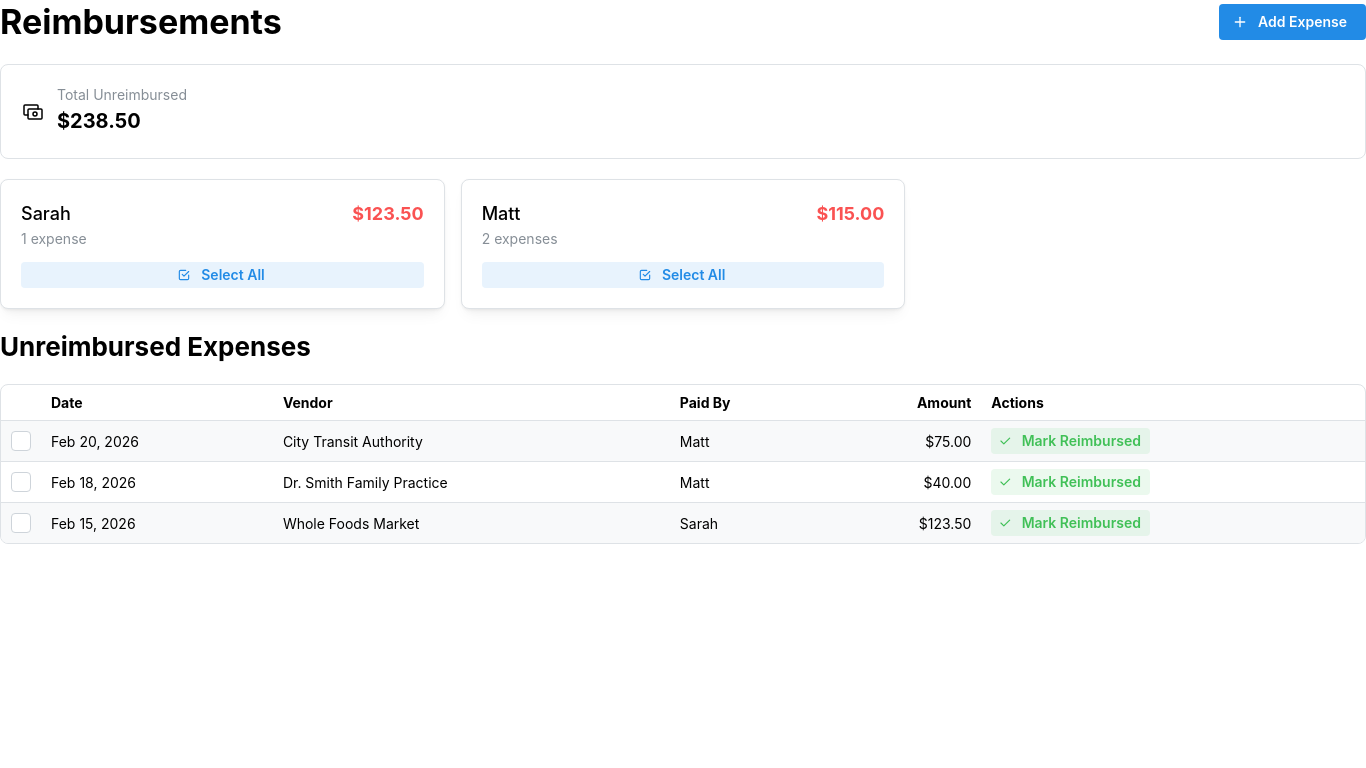
it: Reimbursements Page › Bulk Reimbursement › Confirmation Modal › modal shows total amount of selected expenses
Expected: the table is shown, left=1, top=385, right=1365, bottom=543
Click the checkbox named "select City Transit Authority" at (21, 441), box left=11, top=431, right=31, bottom=451
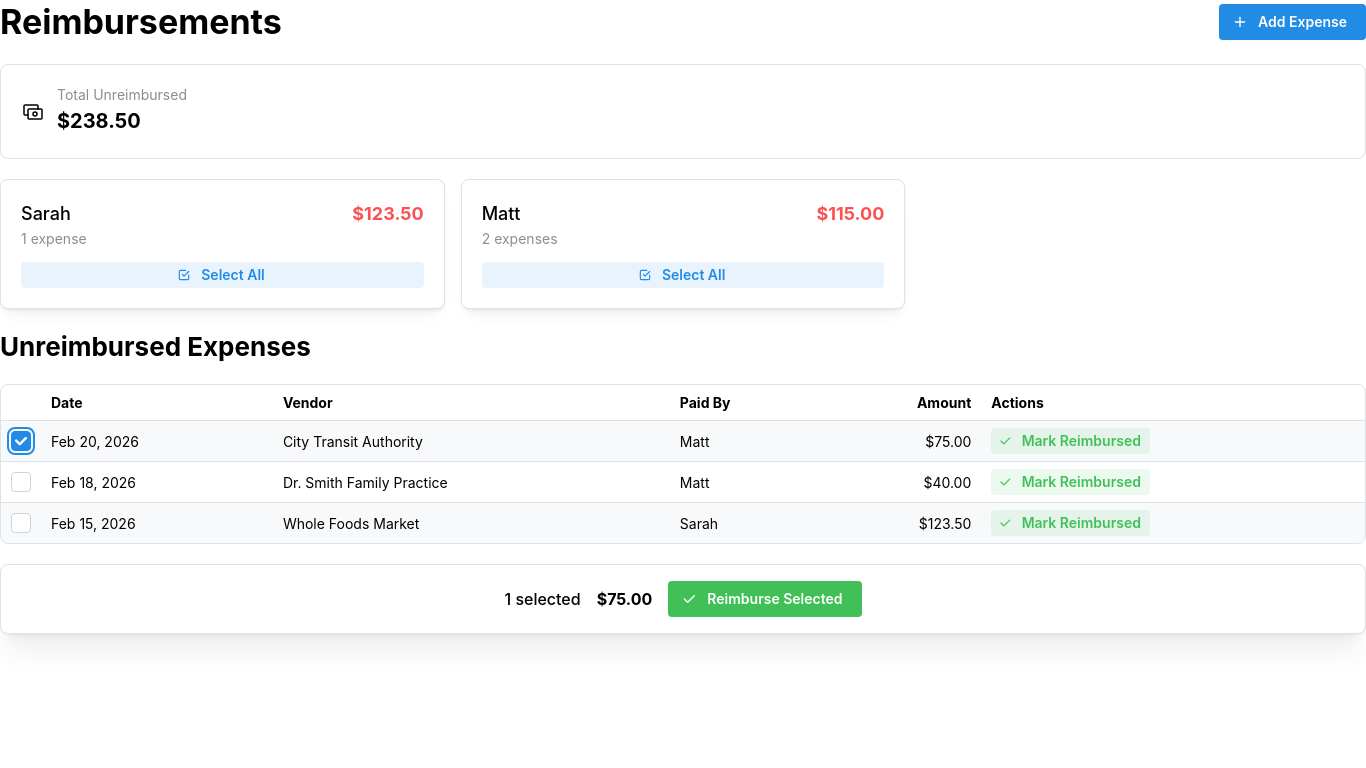
Click the checkbox named "select Dr. Smith Family Practice" at (21, 482), box left=11, top=472, right=31, bottom=492
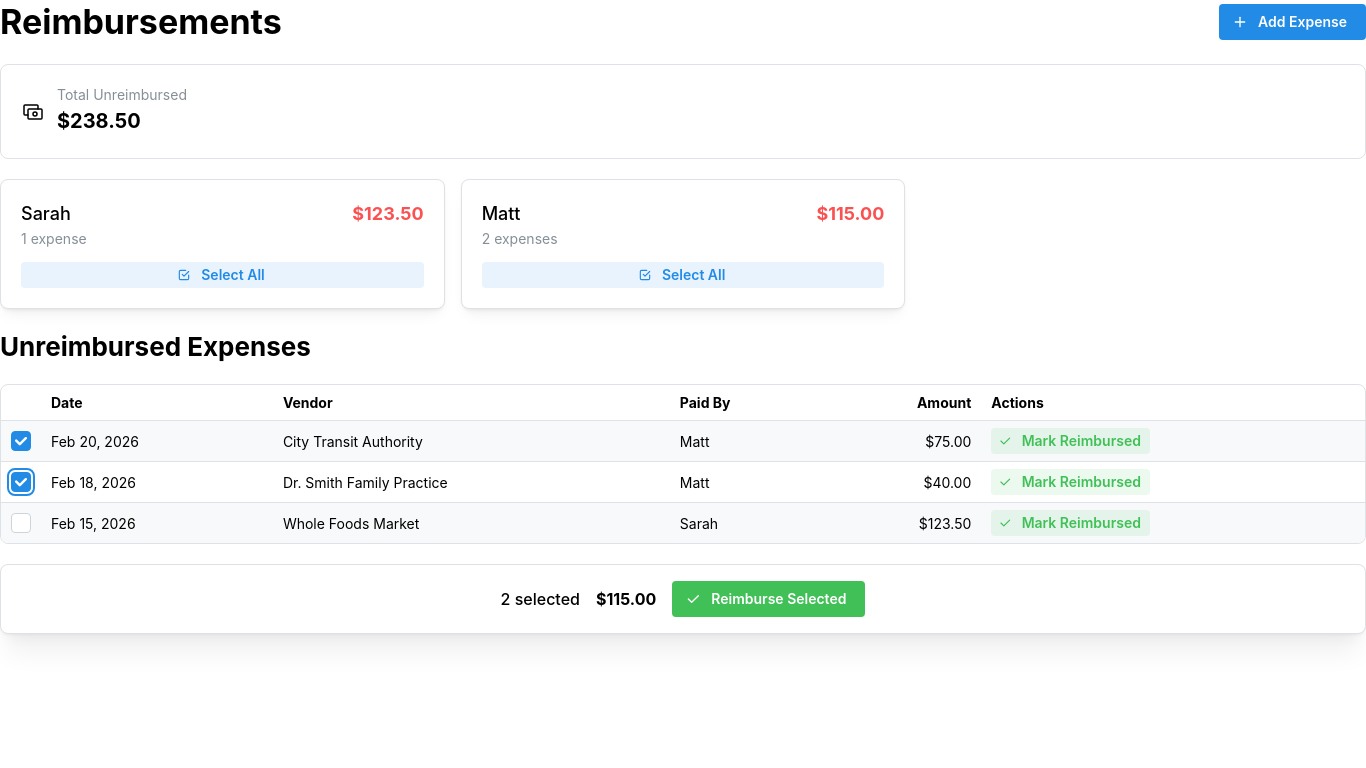
Click the button "Reimburse Selected" at (769, 599), box left=672, top=581, right=866, bottom=617
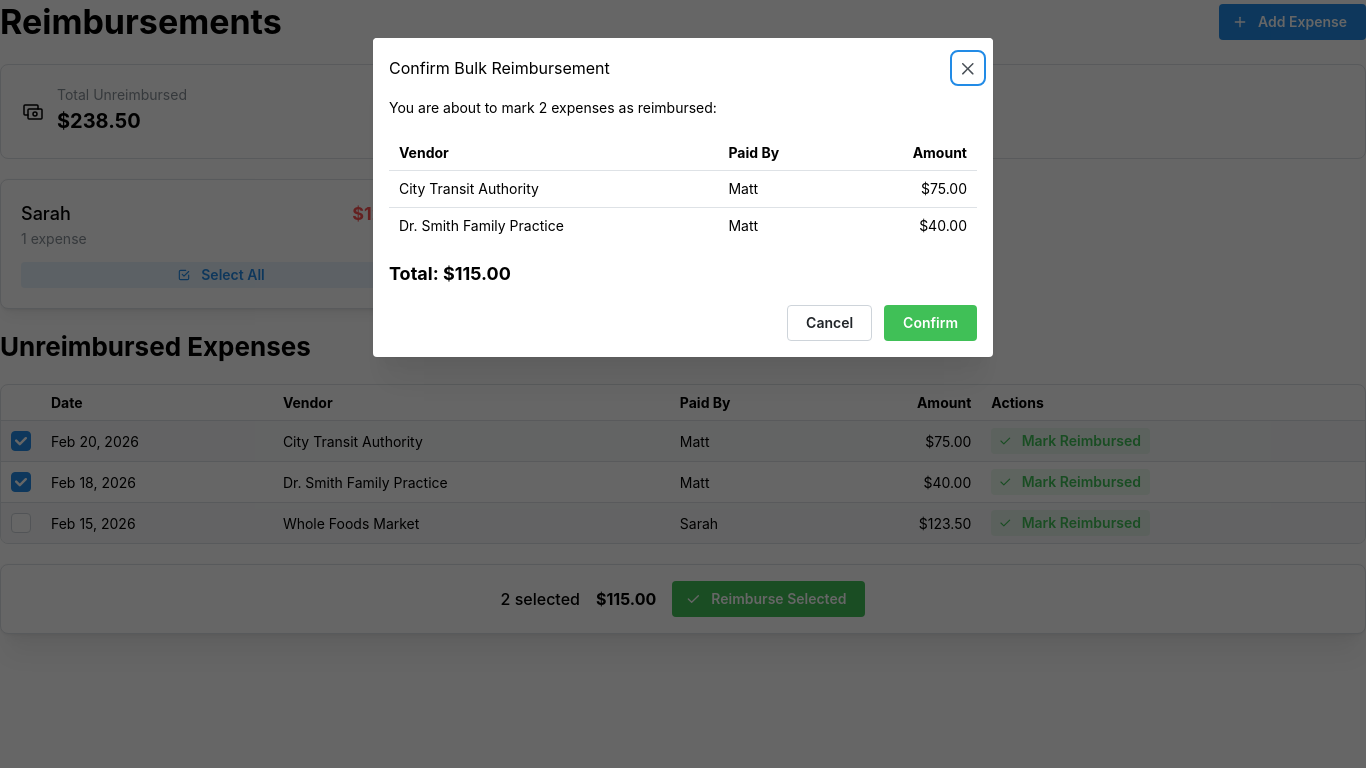
Result: the heading "Confirm Bulk Reimbursement" is shown at left=389, top=60, right=610, bottom=76
Result: the text "Total: $115.00" is shown at left=389, top=260, right=511, bottom=289
